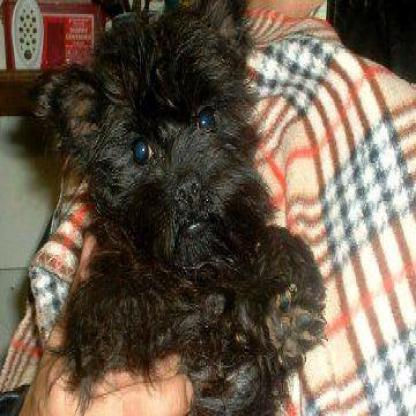affenpinscher: (26, 0, 326, 413)
